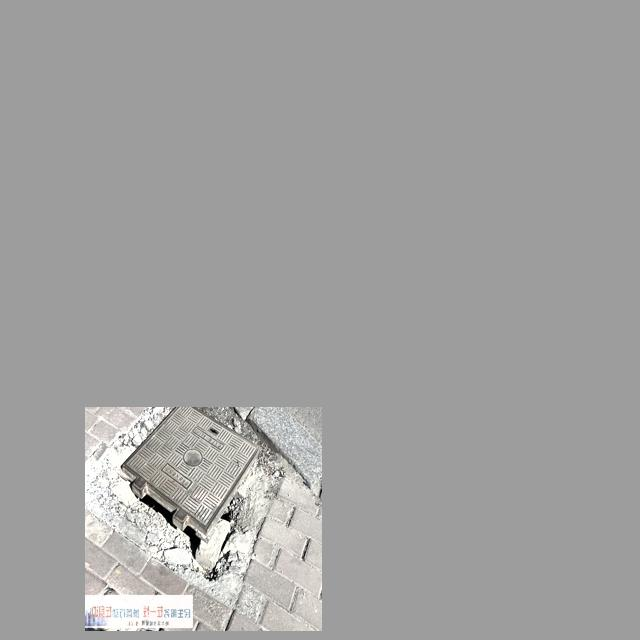circle: (88, 410, 284, 585)
